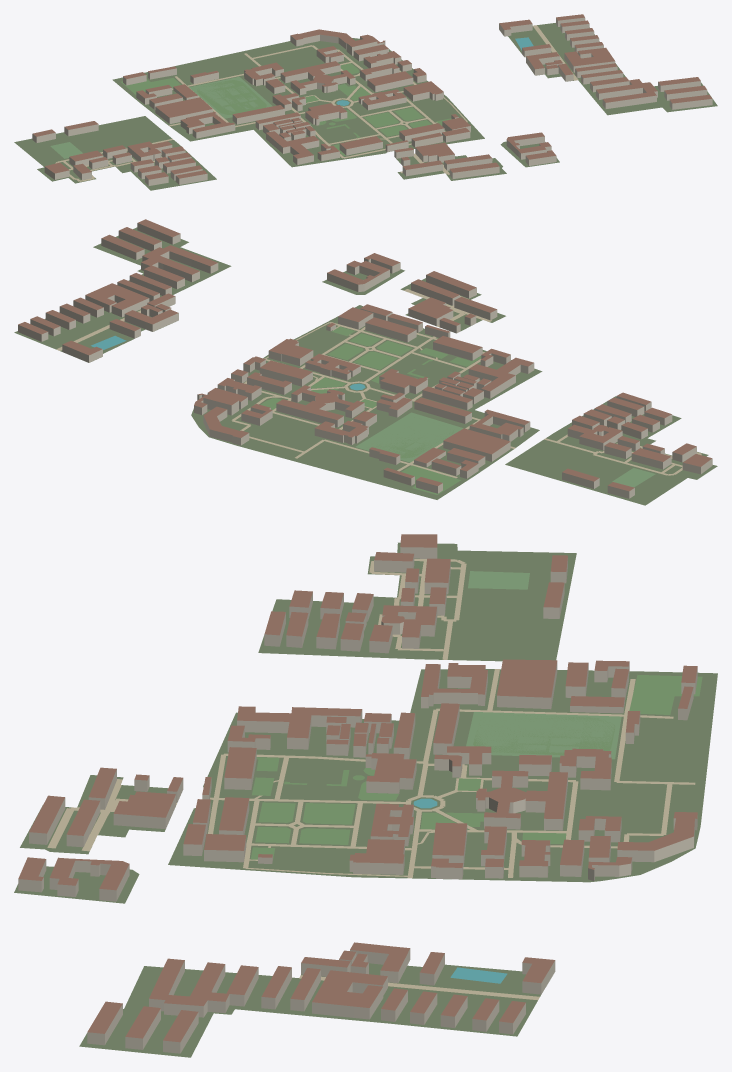
3 views of the same model, one above another, from view 1: azimuth 30°, elevation 25°; view 2: azimuth 150°, elevation 25°; view 3: azimuth 270°, elevation 25° (orthographic). The views are drawn at different scales.
Visible parts, largest first — view 1: buildings, roofs, campus-ground, environment (×3); view 2: buildings, roofs, campus-ground, environment (×3); view 3: campus-ground, roofs, buildings, environment (×4).
Part boxes in pixels (x1=…): buildings: x1=32, y1=17, x2=712, y2=185; roofs: x1=33, y1=14, x2=712, y2=179; campus-ground: x1=14, y1=23, x2=717, y2=190; environment (×3): x1=50, y1=25, x2=578, y2=181; buildings: x1=18, y1=223, x2=712, y2=498; roofs: x1=18, y1=219, x2=711, y2=491; campus-ground: x1=14, y1=227, x2=717, y2=505; environment (×3): x1=56, y1=289, x2=701, y2=494; campus-ground: x1=14, y1=542, x2=717, y2=1057; roofs: x1=18, y1=534, x2=697, y2=1042; buildings: x1=18, y1=547, x2=697, y2=1053; environment (×4): x1=47, y1=559, x2=702, y2=1000.
Bounding box in the file's own units: 1164 × 16.7 × 672.
